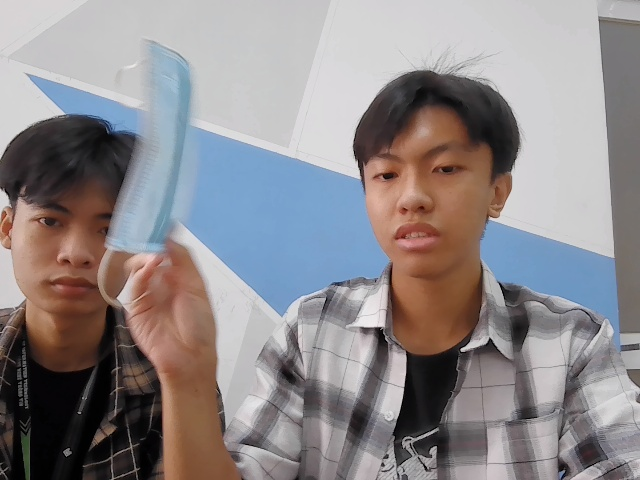human: (345, 74, 517, 285), (1, 112, 154, 312)
mask: (123, 40, 201, 256)
